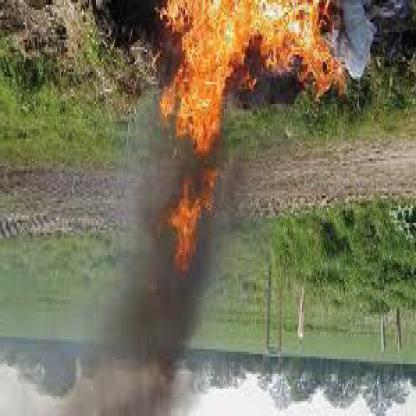Fire: (160, 1, 331, 151)
